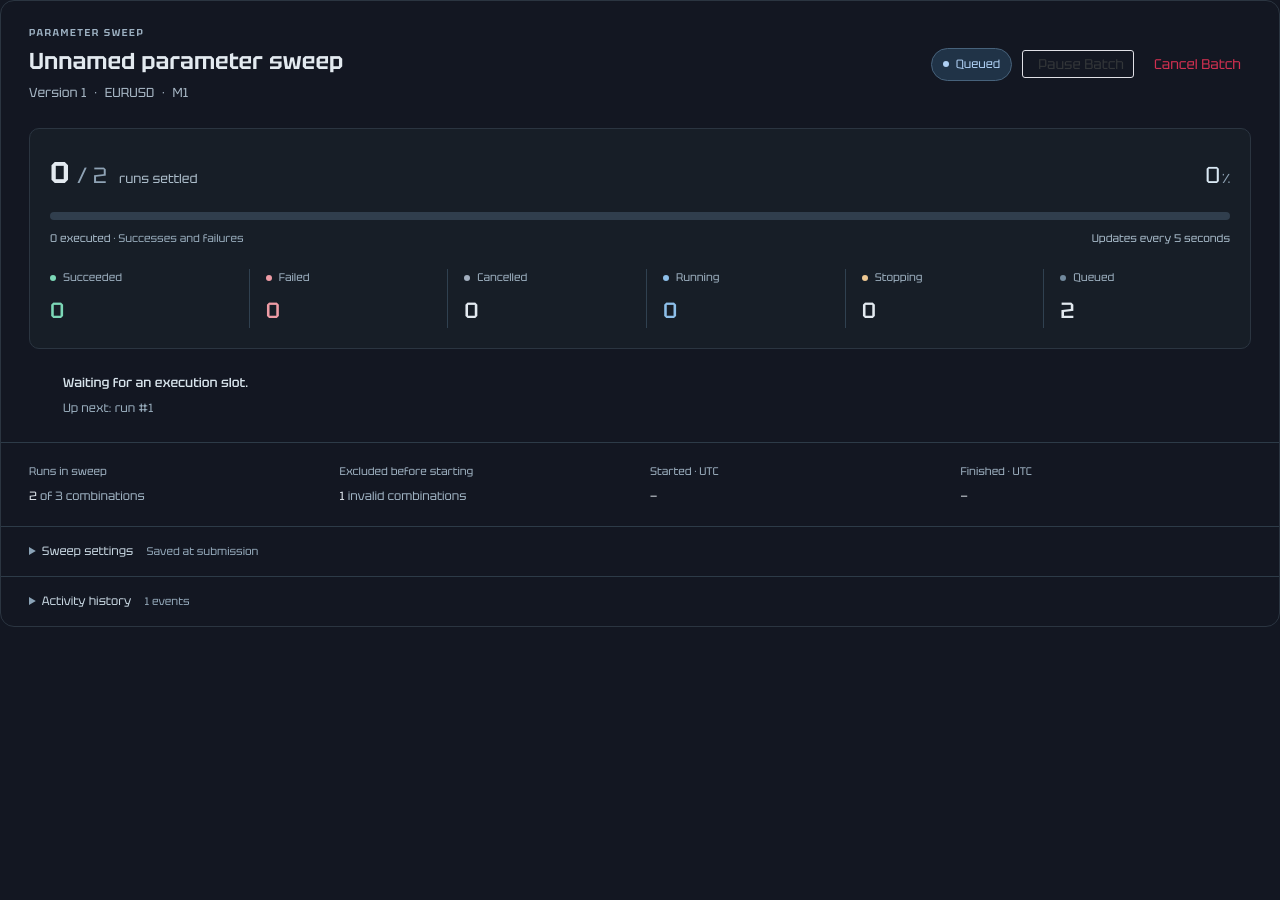
Test: accepted batch inspection › offers legal pause and resume controls and refreshes after command acceptance
This screenshot has width=1280, height=900.
Click the button "Pause Batch": (1078, 64) [1022,50,1134,78]
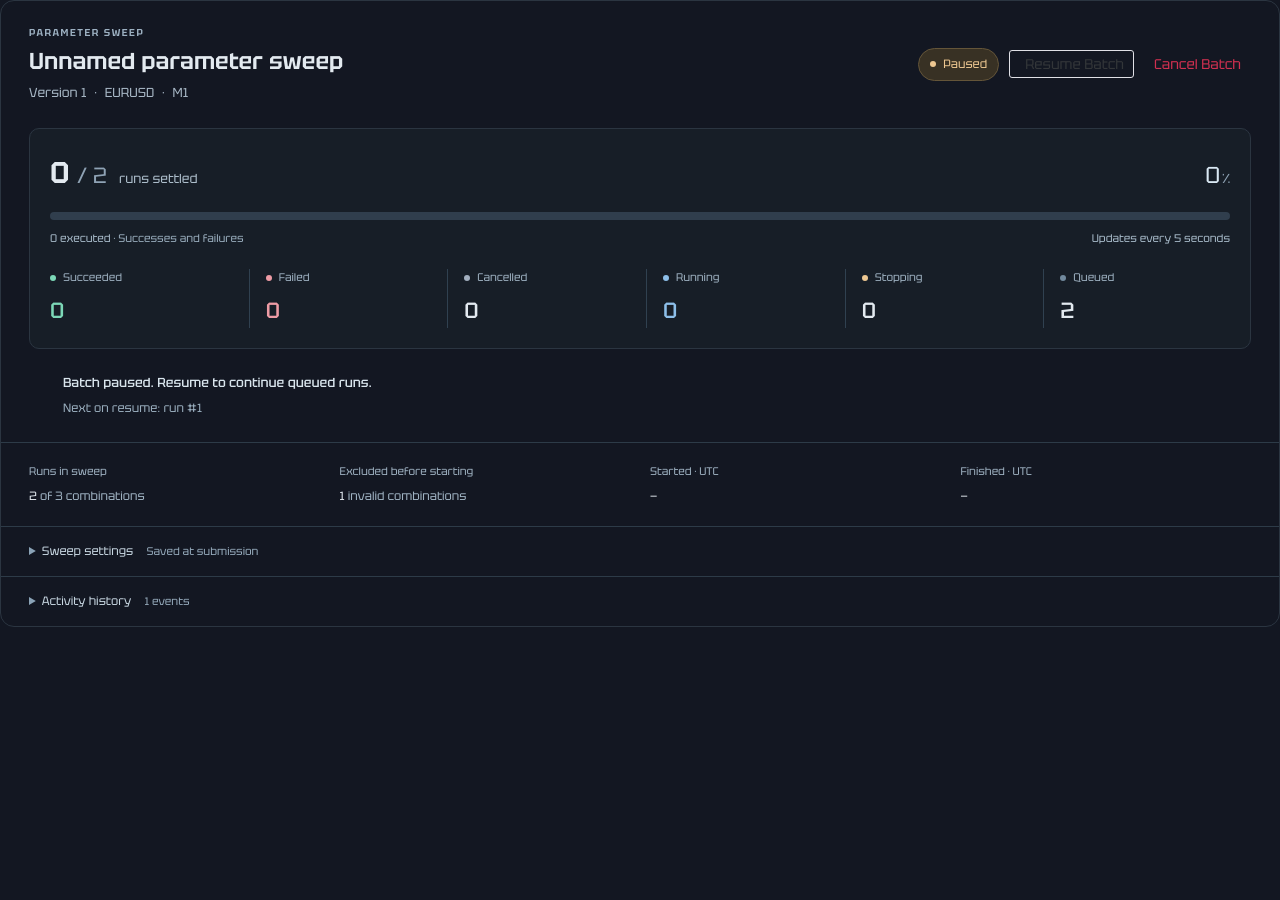
Expected: the text "%" is not shown
Result: the text "Batch paused." is shown at [63,374,372,391]
Result: the button "Resume Batch" is shown at [1009,50,1134,78]
